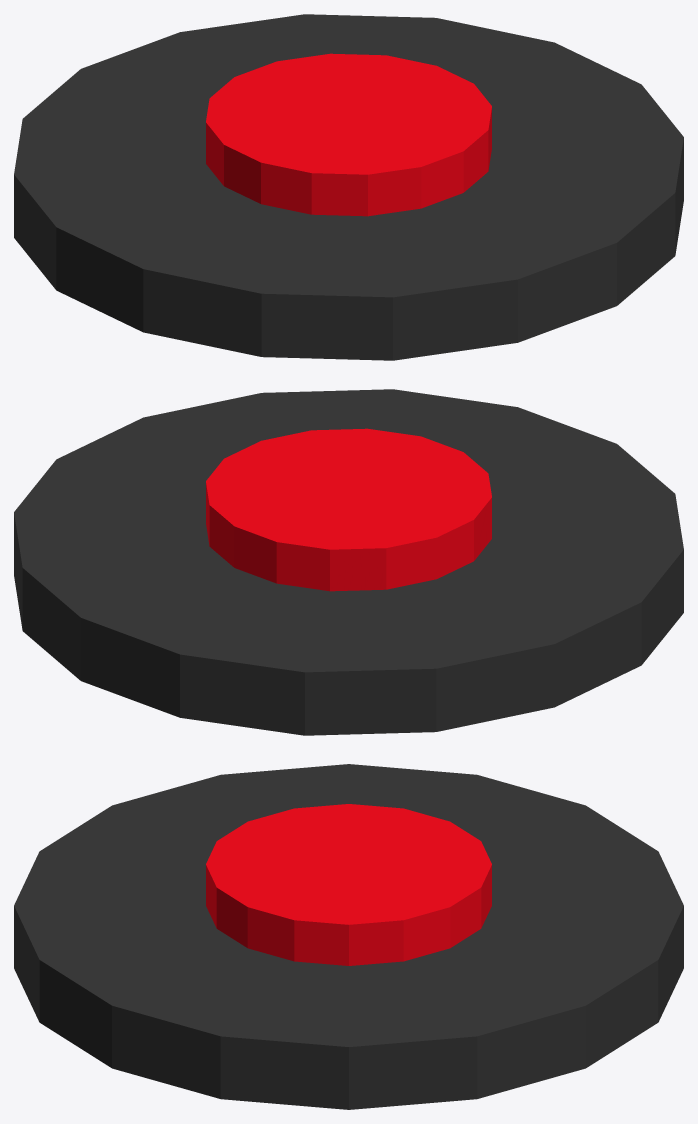
The model's file is Mine.fbx.
The picture shows the model from 3 angles, top to bottom: view 1: azimuth 30°, elevation 25°; view 2: azimuth 150°, elevation 25°; view 3: azimuth 270°, elevation 25°; orthographic projection.
Parts seen in each view (by area): view 1: Mine; view 2: Mine; view 3: Mine.
Part boxes in pixels (x1,y1,x2,y2): Mine: (14,14,683,360); Mine: (14,389,683,735); Mine: (14,764,683,1109).
Size of the model in its own units: 200 by 34.27 by 200.
